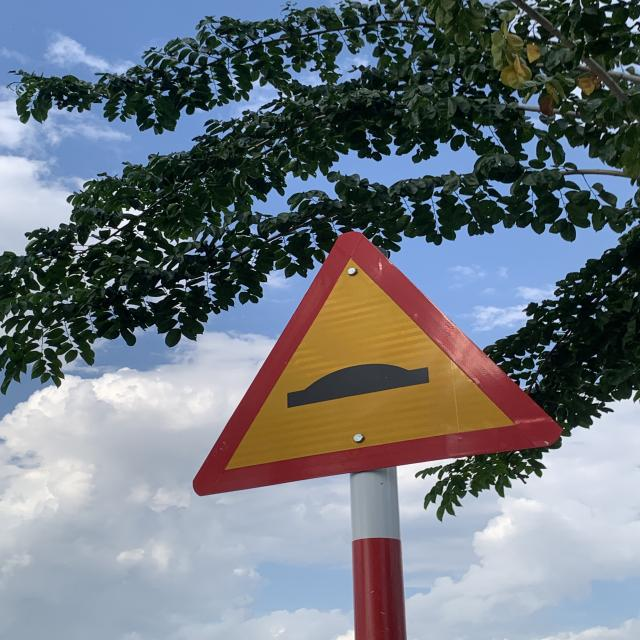Duong_Cong_Ben_Phai: (188, 232, 560, 495)
